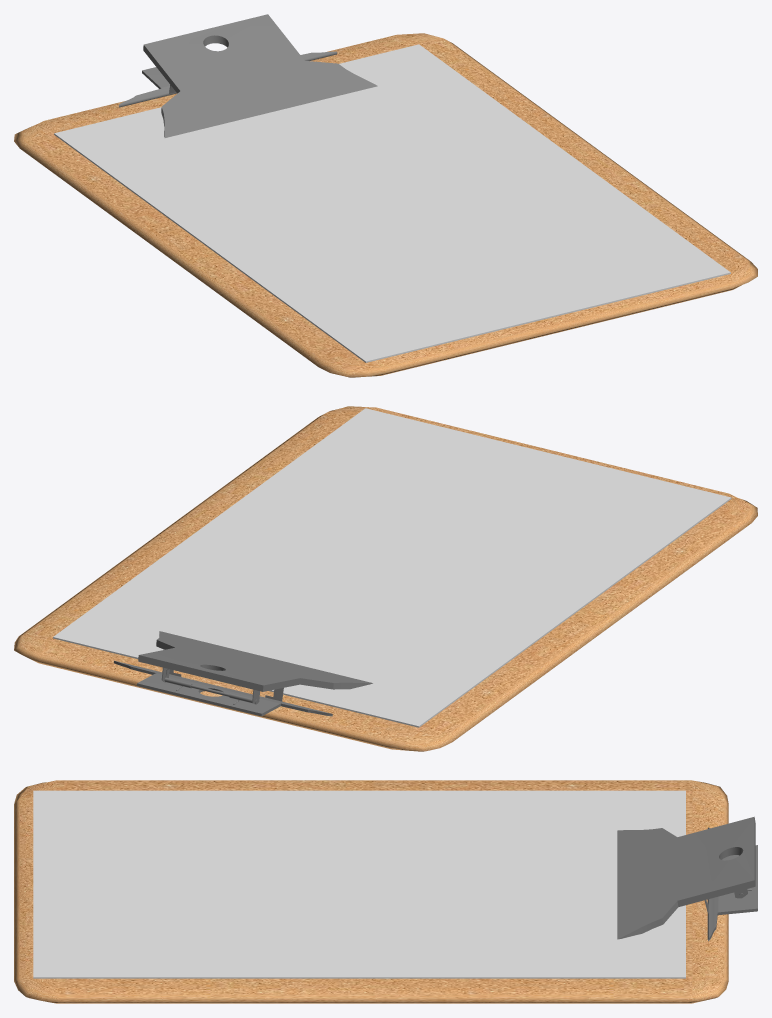
File: Clipboard.fbx
The picture shows the model from 3 angles, top to bottom: view 1: azimuth 30°, elevation 25°; view 2: azimuth 150°, elevation 25°; view 3: azimuth 270°, elevation 25°; orthographic projection. The views are drawn at different scales.
Parts seen in each view (by area): view 1: Notebook_Paper, Notepad_Clipboard, pCube10, pCube11; view 2: Notebook_Paper, Notepad_Clipboard, pCube10, pCube11; view 3: Notebook_Paper, Notepad_Clipboard, pCube10, pCube11.
Part boxes in pixels (x1,y1,x2,y2): Notebook_Paper: (54, 44, 730, 362); Notepad_Clipboard: (14, 33, 757, 377); pCube10: (143, 14, 377, 137); pCube11: (118, 51, 337, 107); Notebook_Paper: (53, 408, 731, 727); Notepad_Clipboard: (14, 406, 757, 751); pCube10: (138, 631, 372, 691); pCube11: (113, 660, 332, 716); Notebook_Paper: (33, 790, 685, 978); Notepad_Clipboard: (14, 780, 728, 1003); pCube10: (617, 816, 755, 939); pCube11: (707, 827, 757, 941).
Size of the model in its own units: 1.49 by 0.1585 by 2.12.
Materials: 3 (1 with a texture image).
